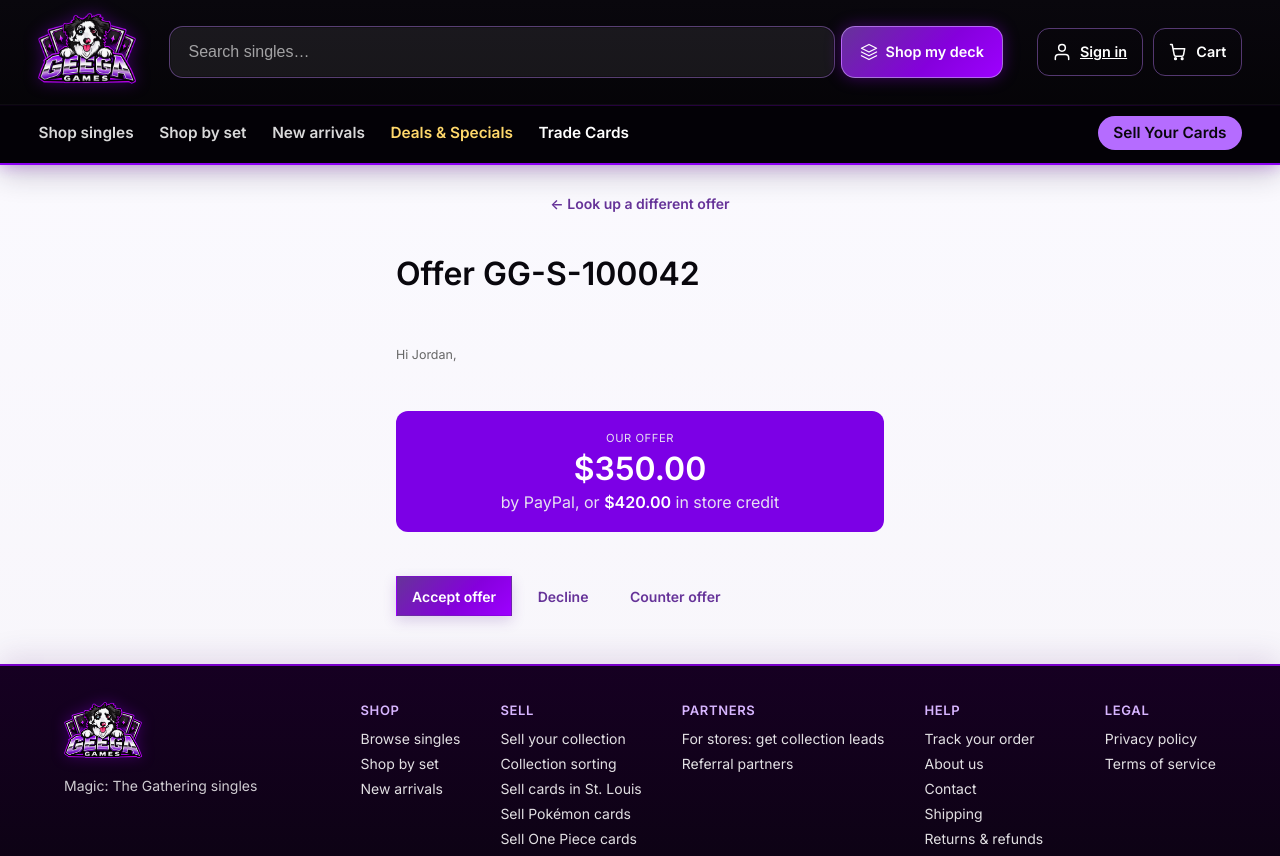
Scenario: /sell/offer route › lets an eligible seller submit a counter-offer, converting dollars to cents
Click the button "Counter offer" at (675, 596), box [614, 576, 736, 616]
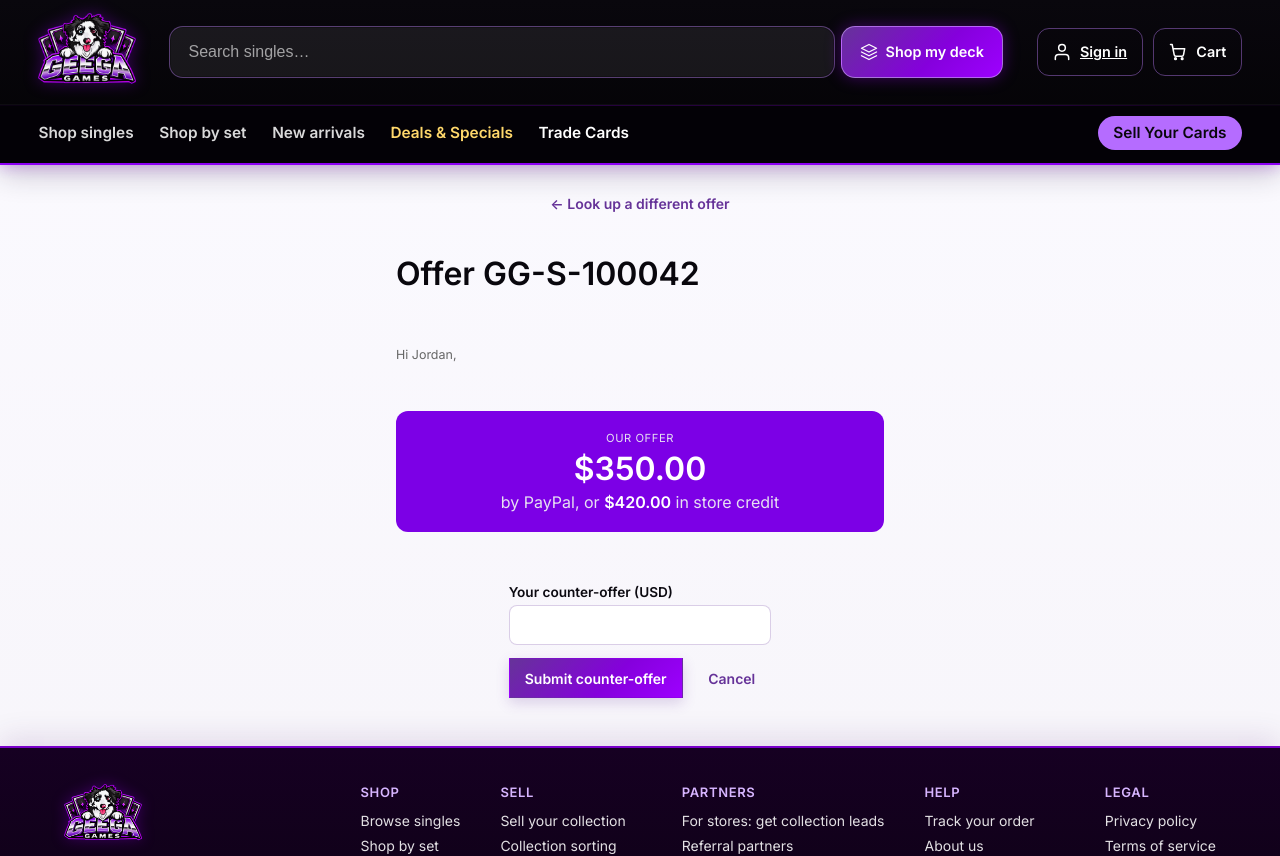
Type "420" into the number field labelled "Your counter-offer (USD)" at (640, 625), box [509, 606, 771, 645]
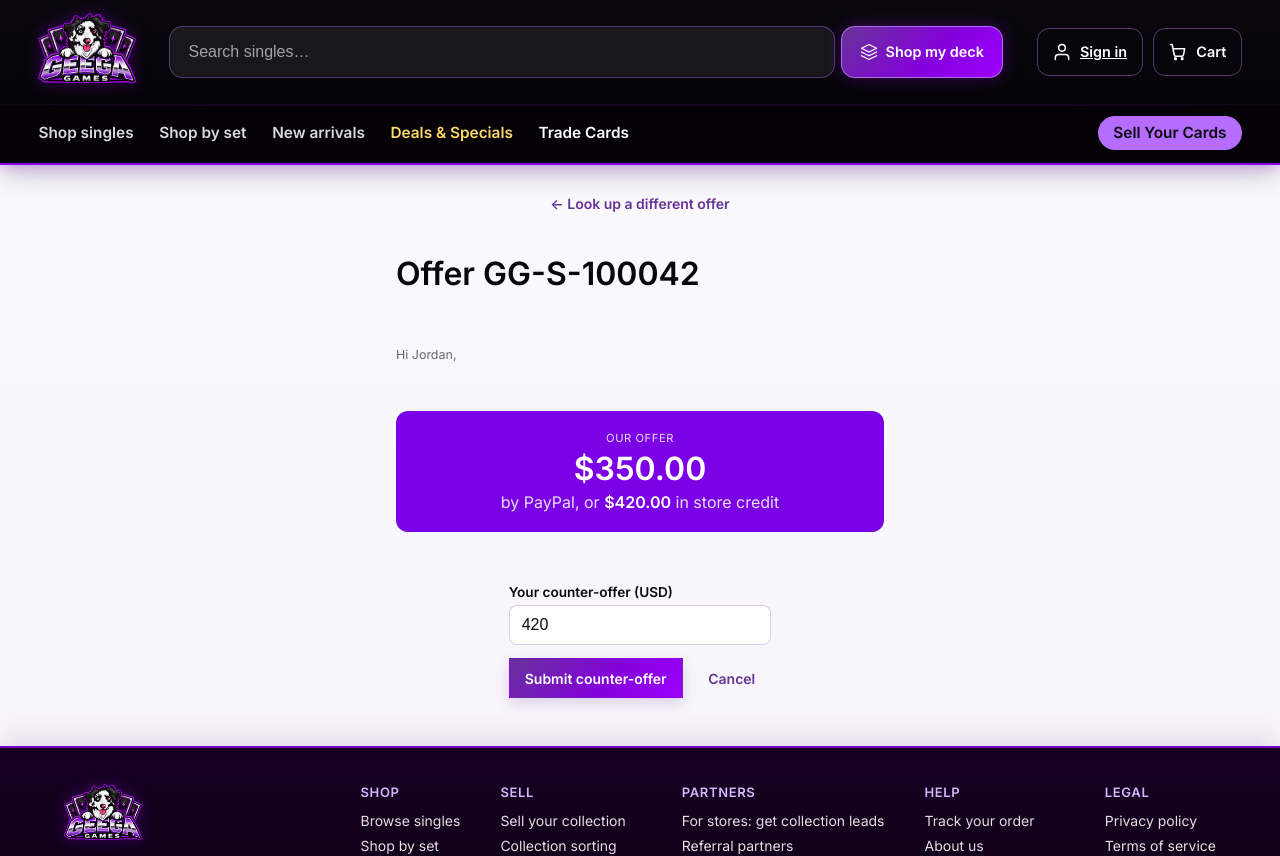
Click the button "Submit counter-offer" at (596, 678), box [509, 658, 683, 698]
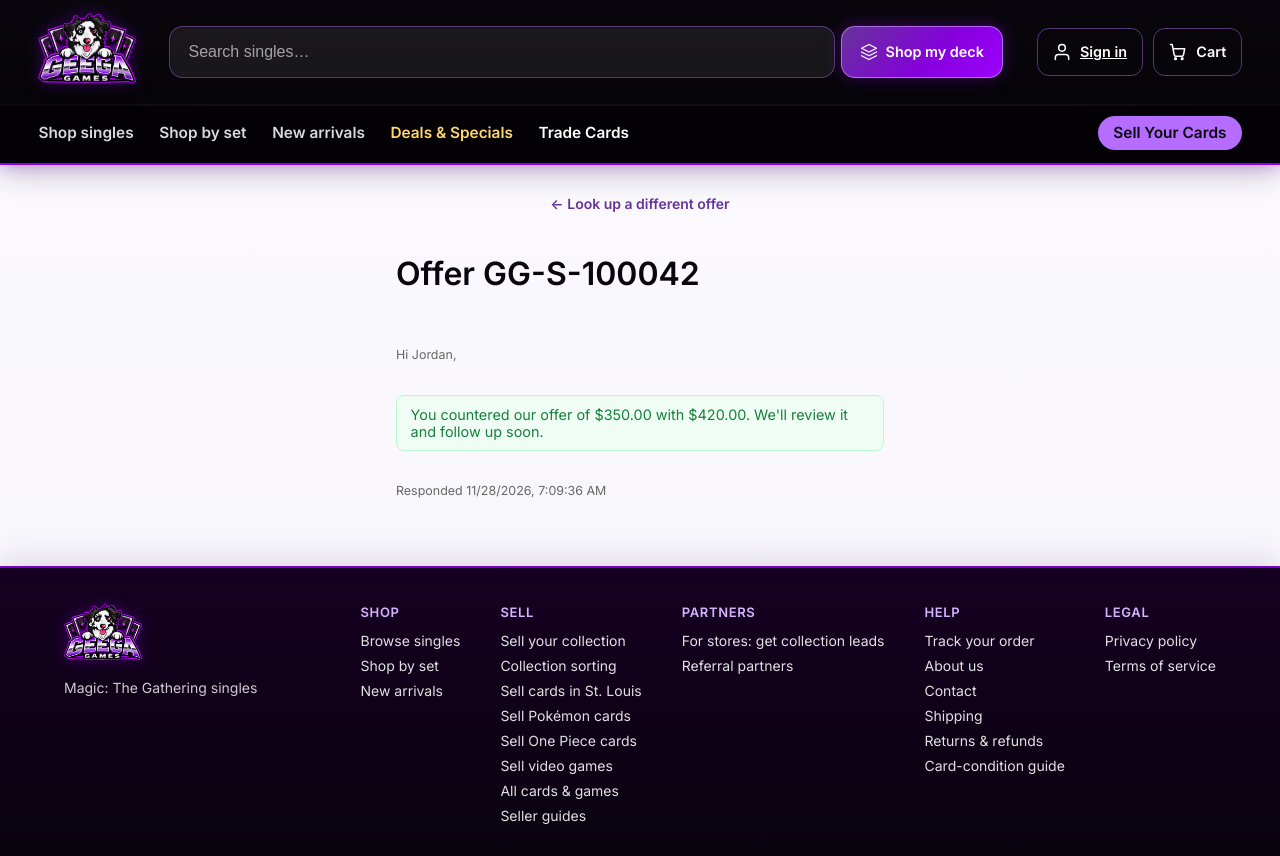
Result: the text "You countered our offer" is shown at [411, 406, 848, 440]
